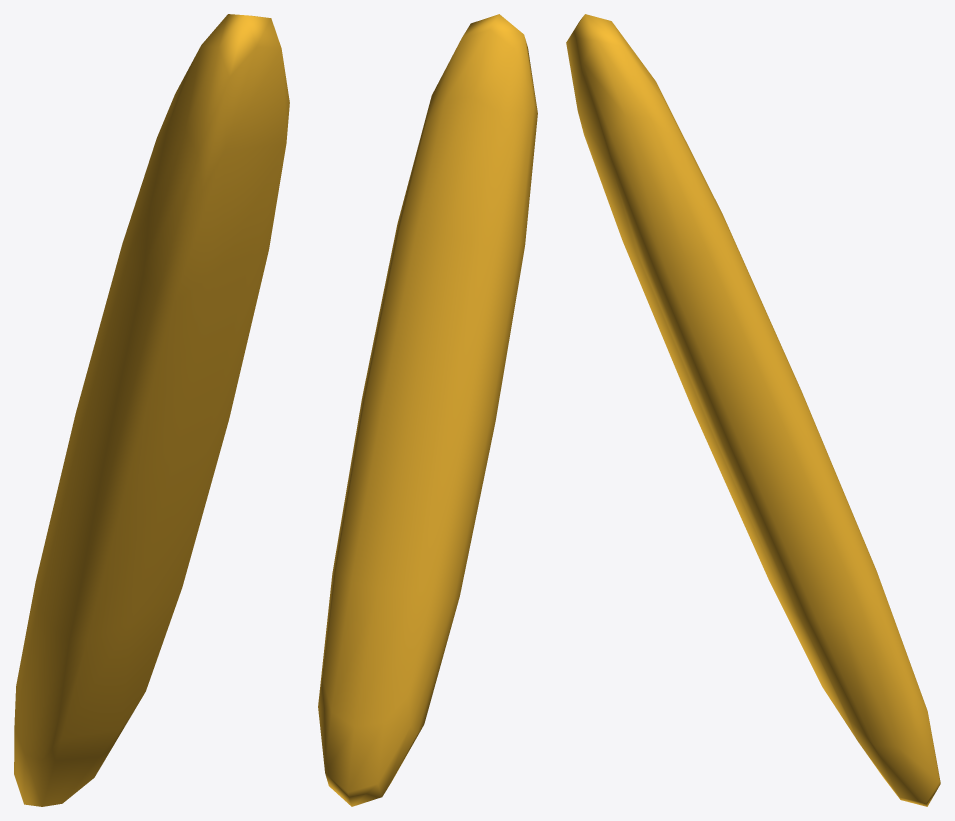
File: nervoso-posterior-nucleus-of-vagus-nerve-r.glb
3 renders of one model, left to right at view 1: azimuth 30°, elevation 25°; view 2: azimuth 150°, elevation 25°; view 3: azimuth 270°, elevation 25°, orthographic. The views are drawn at different scales.
Parts seen in each view (by area): view 1: Posterior nucleus of vagus nerve.r; view 2: Posterior nucleus of vagus nerve.r; view 3: Posterior nucleus of vagus nerve.r.
Part boxes in pixels (x1,y1,x2,y2): Posterior nucleus of vagus nerve.r: (14,14,289,806); Posterior nucleus of vagus nerve.r: (318,14,537,806); Posterior nucleus of vagus nerve.r: (566,14,940,806).
Bounding box in the file's own units: 0.00117 × 0.00719 × 0.00308.
